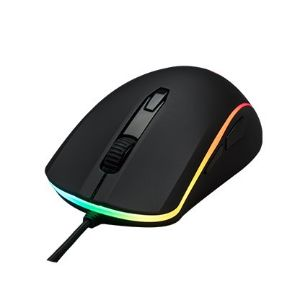mouse: (42, 61, 270, 257)
